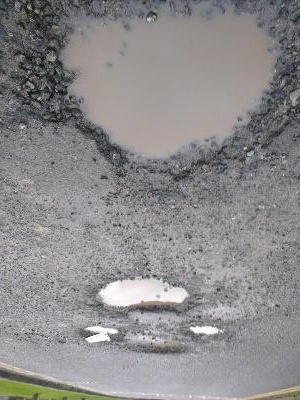pothole: (21, 0, 297, 186), (90, 276, 197, 315), (123, 338, 192, 355), (81, 324, 121, 347), (185, 323, 227, 341)
